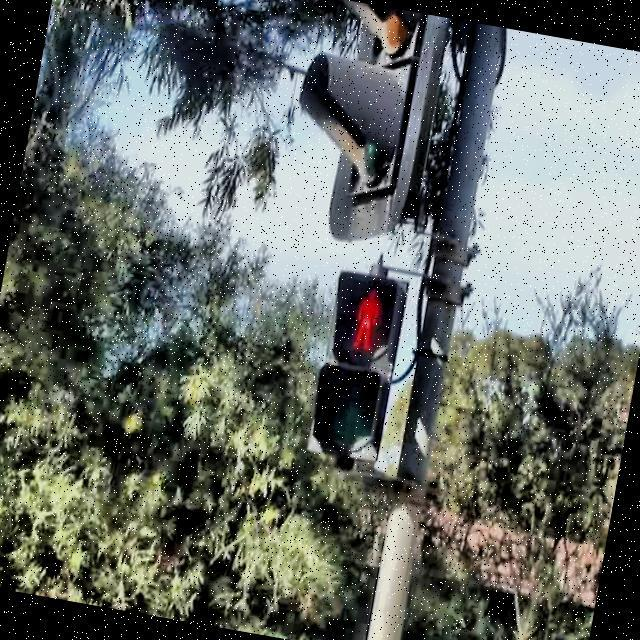red_light: (349, 284, 385, 354)
